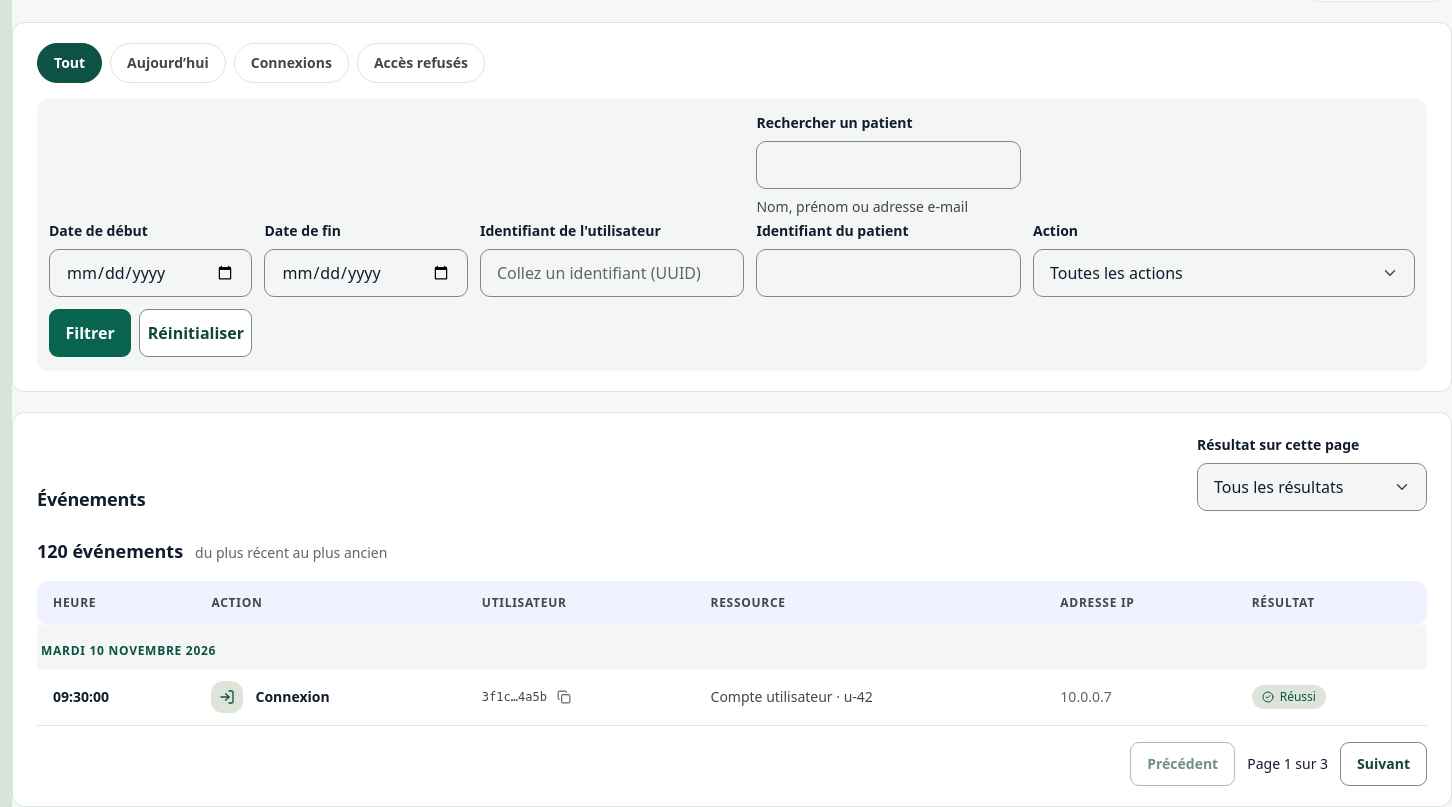
Scenario: pages: shows where we are, and Précédent / Suivant move one page
(page scrolled)
Expected: the text "Page 1 sur 3" is shown, [1247,752,1328,776]
Expected: the text "120 événements" is shown, [37,539,183,563]
Click the button "Suivant".
click(1384, 764)  # box [1340,742,1427,786]
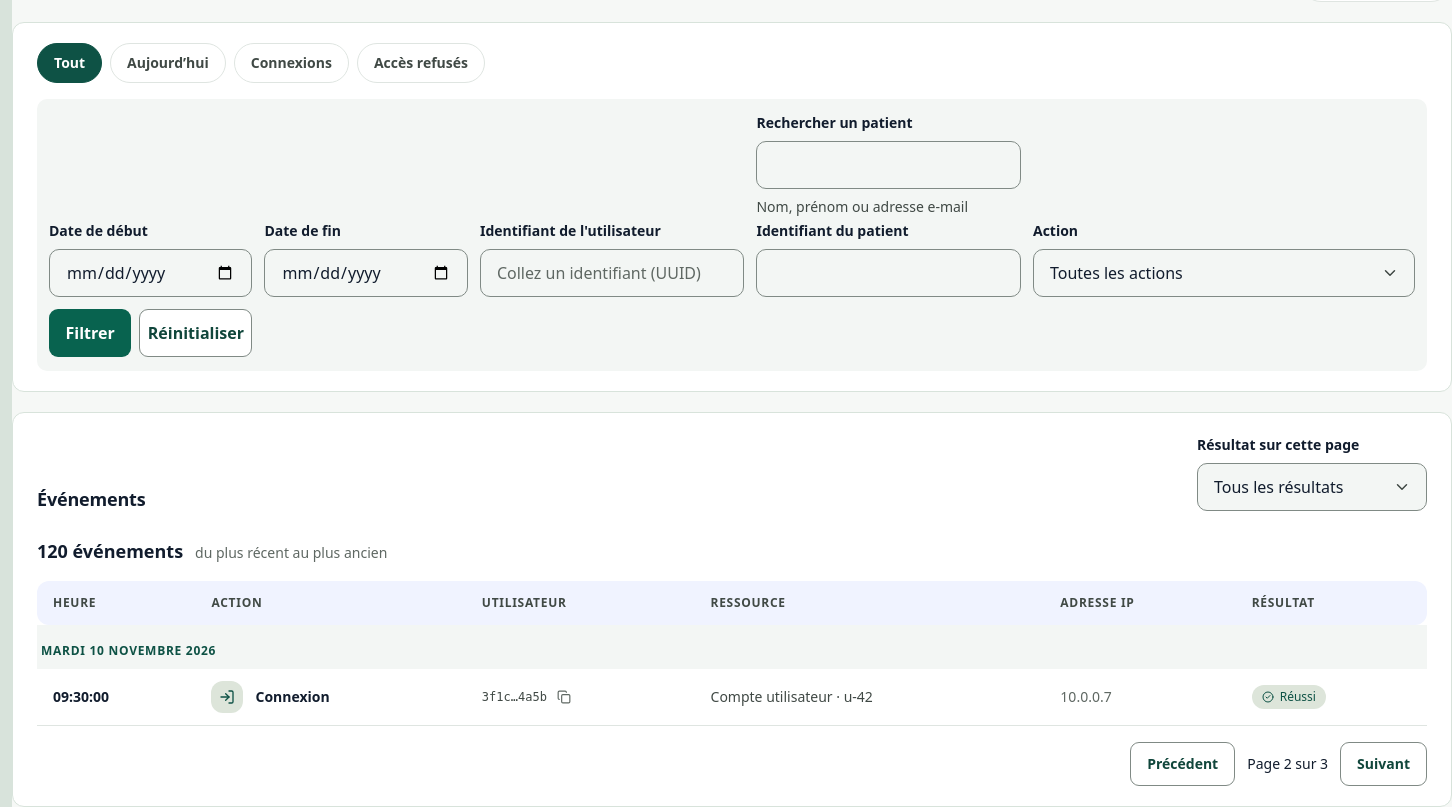
Expected: the text "Page 2 sur 3" is shown, [1247,752,1328,776]
Click the button "Précédent".
click(1183, 764)  # box [1130,742,1235,786]
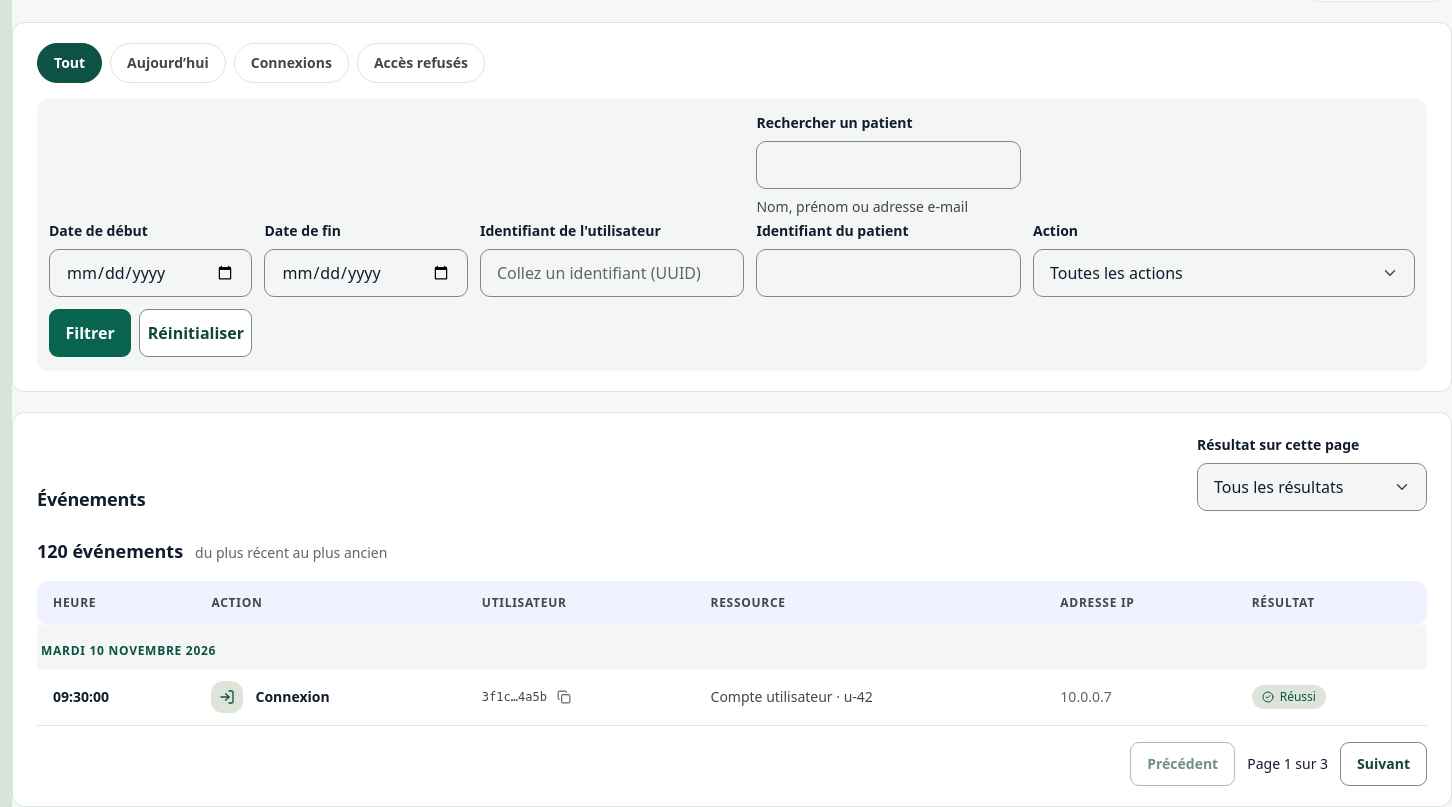
Expected: the text "Page 1 sur 3" is shown, [1247,752,1328,776]
